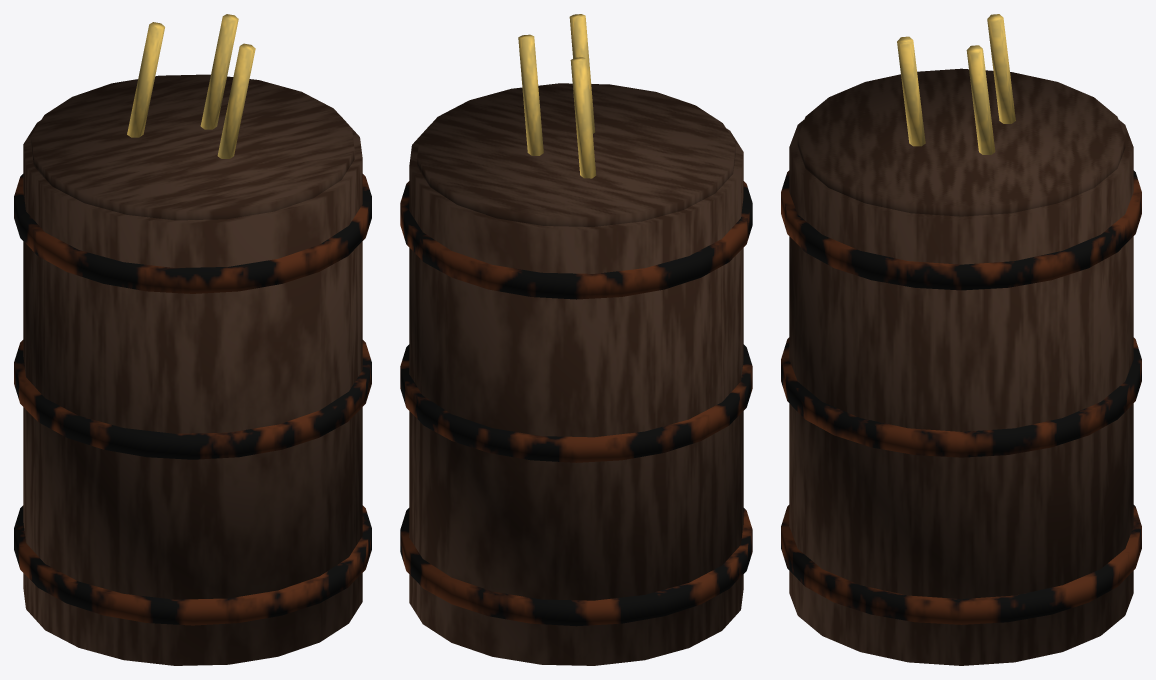
File: barrel.glb
3 renders of one model, left to right at view 1: azimuth 30°, elevation 25°; view 2: azimuth 150°, elevation 25°; view 3: azimuth 270°, elevation 25°, orthographic. The views are drawn at different scales.
Parts seen in each view (by area): view 1: barrel; view 2: barrel; view 3: barrel.
Part boxes in pixels (bbox=[...]): barrel: bbox=[14, 14, 371, 665]; barrel: bbox=[400, 14, 752, 665]; barrel: bbox=[781, 14, 1141, 665].
Size of the model in its own units: 0.88 by 1.53 by 0.88.
3 materials, 3 textured.
